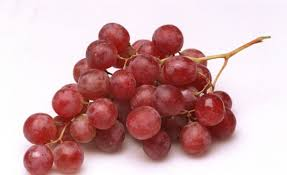Red Grapes: (32, 48, 200, 175)
